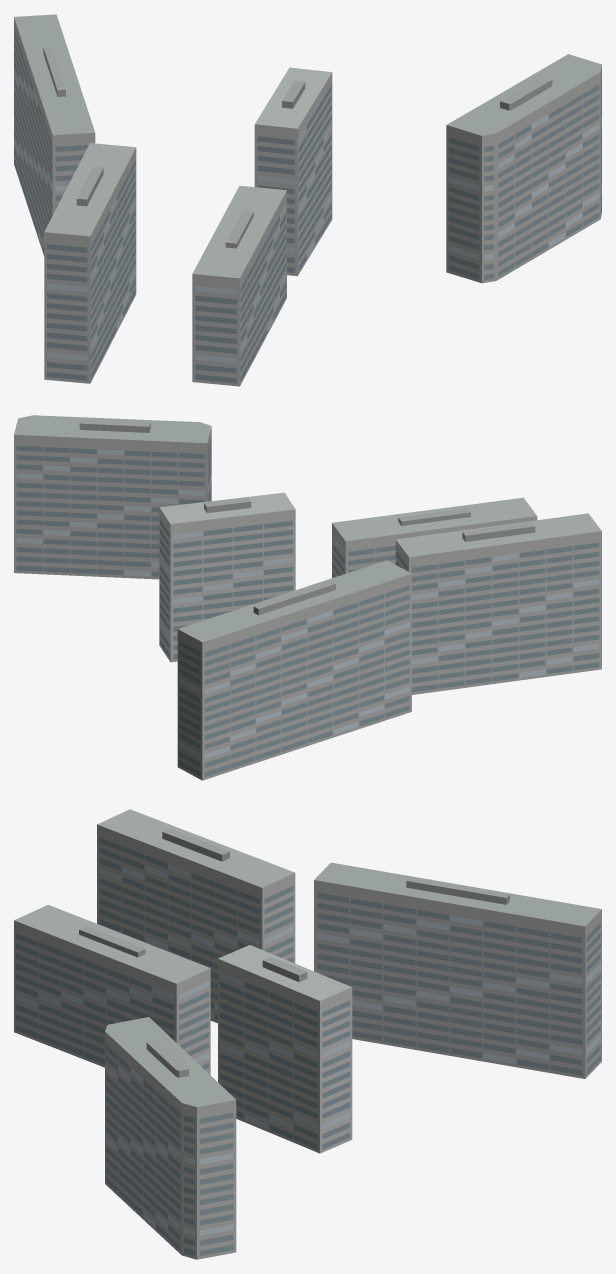
File: apt-a15880204.glb
3 views of the same model, one above another, from view 1: azimuth 30°, elevation 25°; view 2: azimuth 150°, elevation 25°; view 3: azimuth 270°, elevation 25° (orthographic). The views are drawn at different scales.
Visible parts, largest first — view 1: apt-a15880204; view 2: apt-a15880204; view 3: apt-a15880204.
Boxes of the visible parts, <box> form: apt-a15880204: <box>14,14,601,386</box>; apt-a15880204: <box>14,415,601,780</box>; apt-a15880204: <box>14,809,601,1259</box>.
Bounding box in the file's own units: 192 × 47.81 × 160.
